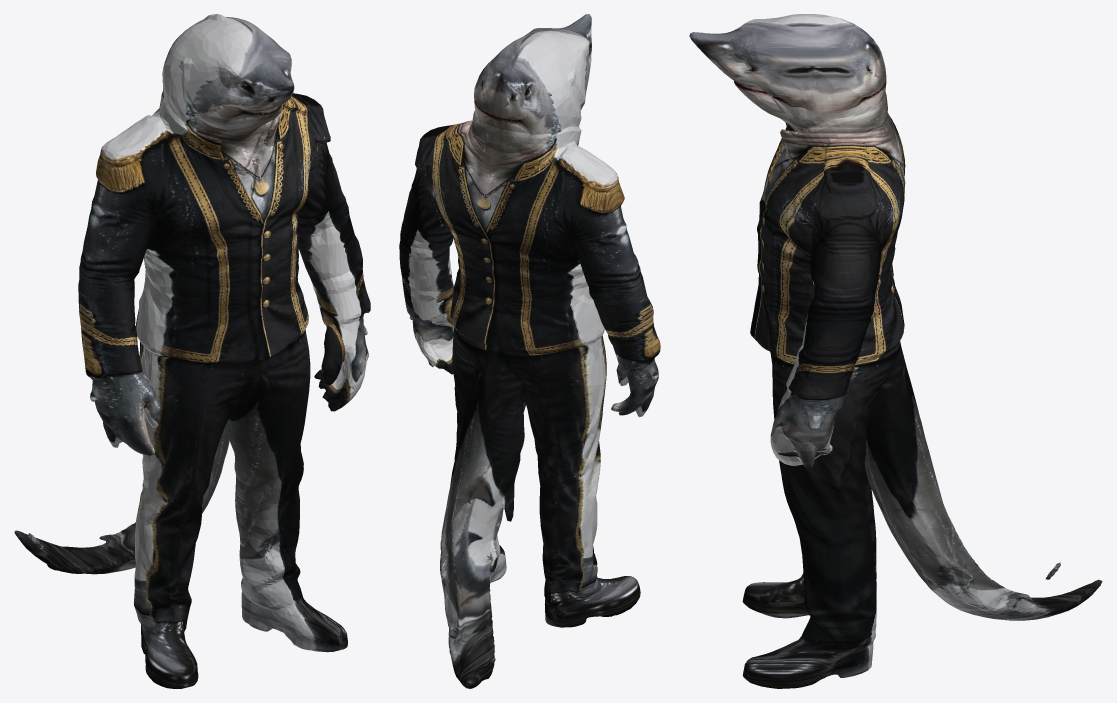
Rendered from guard-gen.hunyuan-evidence.glb.
3 renders of one model, left to right at view 1: azimuth 30°, elevation 25°; view 2: azimuth 150°, elevation 25°; view 3: azimuth 270°, elevation 25°, orthographic. The views are drawn at different scales.
Visible parts, largest first — view 1: world; view 2: world; view 3: world.
Part boxes in pixels (left/top/right/bottom): world: left=14, top=14, right=370, bottom=688; world: left=399, top=14, right=660, bottom=688; world: left=689, top=14, right=1102, bottom=688.
Bounding box in the file's own units: 0.8893 × 1.92 × 1.14.
1 material, 1 textured.
